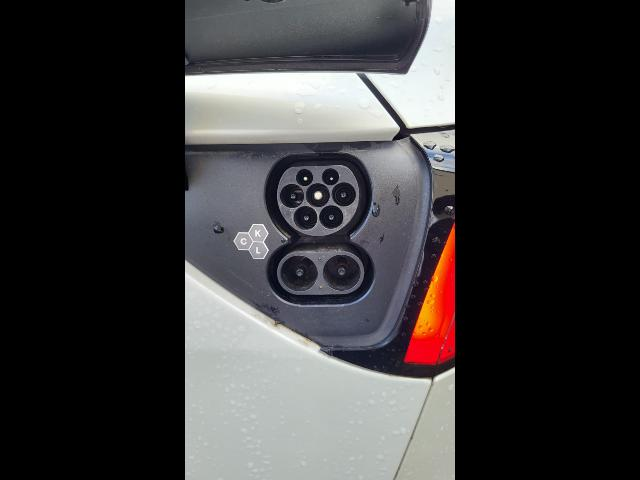inlet: (277, 165, 359, 236)
inlet-above-left: (296, 169, 313, 186)
inlet-above-right: (322, 168, 339, 185)
inlet-below-left: (294, 206, 318, 230)
inlet-below-right: (319, 205, 344, 230)
inlet-circle: (305, 183, 330, 207)
inlet-circle-left: (280, 184, 304, 208)
inlet-circle-right: (332, 182, 356, 207)
inlet-minus: (323, 255, 361, 291)
inlet-plus: (281, 255, 318, 291)
